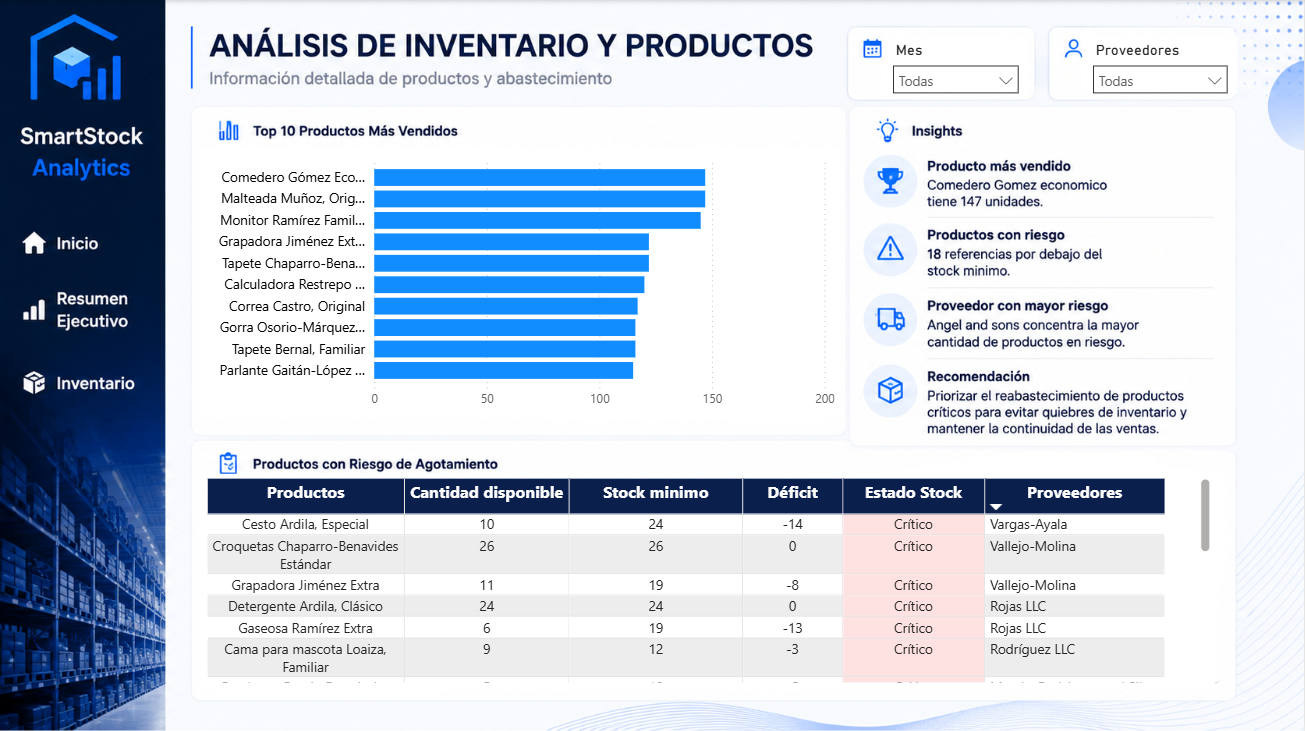

What the dashboard file says about the page in this screenshot:
{"tool":"powerbi","page":{"name":"Análisis de inventario","canvas":[1280,720],"ordinal":2},"visuals":[{"type":"slicer","fields":{"Values":["proyecto ventas.Mes"]},"box":[866.3,35.6,143.6,57.7],"z":0},{"type":"slicer","fields":{"Values":["proyecto proveedores.nombre"]},"box":[1062.6,35.6,152.1,56.4],"z":1000},{"type":"clusteredBarChart","title":"Top 10 productos más vendidos","fields":{"Category":["proyecto productos.nombre"],"Y":["Sum(proyecto detalle_venta.cantidad)"]},"box":[197.5,144.8,627,265],"z":2000},{"type":"tableEx","title":"Productos con riesgo de agotamiento","fields":{"Values":["proyecto productos.nombre","Sum(proyecto inventario.cantidad_disponible)","Sum(proyecto inventario.stock_minimo)","proyecto inventario.Déficit","proyecto inventario.Estado Stock","proyecto proveedores.nombre"]},"box":[197.5,465,995,210],"z":3000},{"type":"actionButton","box":[9.8,219.6,100.6,40.5],"z":4000},{"type":"actionButton","box":[20.9,277.3,128.8,47.9],"z":5000}]}

Visuals, with their boxes in screenshot pixels (x1, y1, x2, y2), scaled from the page's 1280x720 canvas onto the 1305x731 screenshot:
slicer - proyecto ventas.Mes: <bbox>883, 36, 1030, 95</bbox>
slicer - proyecto proveedores.nombre: <bbox>1083, 36, 1238, 93</bbox>
"Top 10 productos más vendidos" clusteredBarChart: <bbox>201, 147, 841, 416</bbox>
"Productos con riesgo de agotamiento" tableEx: <bbox>201, 472, 1216, 685</bbox>
actionButton: <bbox>10, 223, 113, 264</bbox>
actionButton: <bbox>21, 282, 153, 330</bbox>
